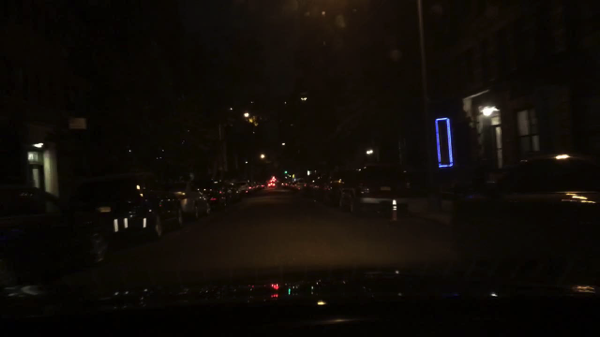car: (447, 153, 599, 283), (0, 184, 110, 282), (72, 173, 182, 245), (337, 161, 413, 220), (166, 180, 211, 221), (318, 168, 356, 209), (193, 176, 230, 208), (301, 174, 324, 198), (221, 181, 242, 203), (289, 176, 305, 194), (236, 182, 254, 196), (248, 181, 261, 192), (285, 179, 294, 191), (255, 182, 266, 191), (267, 181, 276, 188), (280, 181, 286, 188)
traffic light: (282, 166, 288, 176)
traffic sign: (68, 117, 89, 130)
